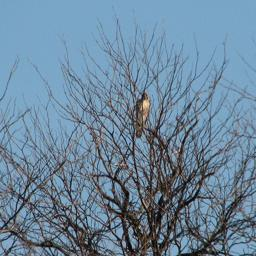bird: (242, 142, 256, 217)
